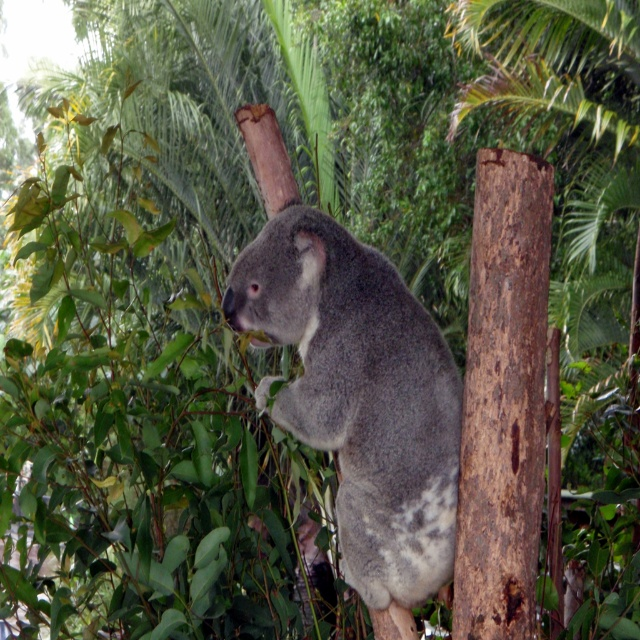Koala: (224, 206, 465, 610)
